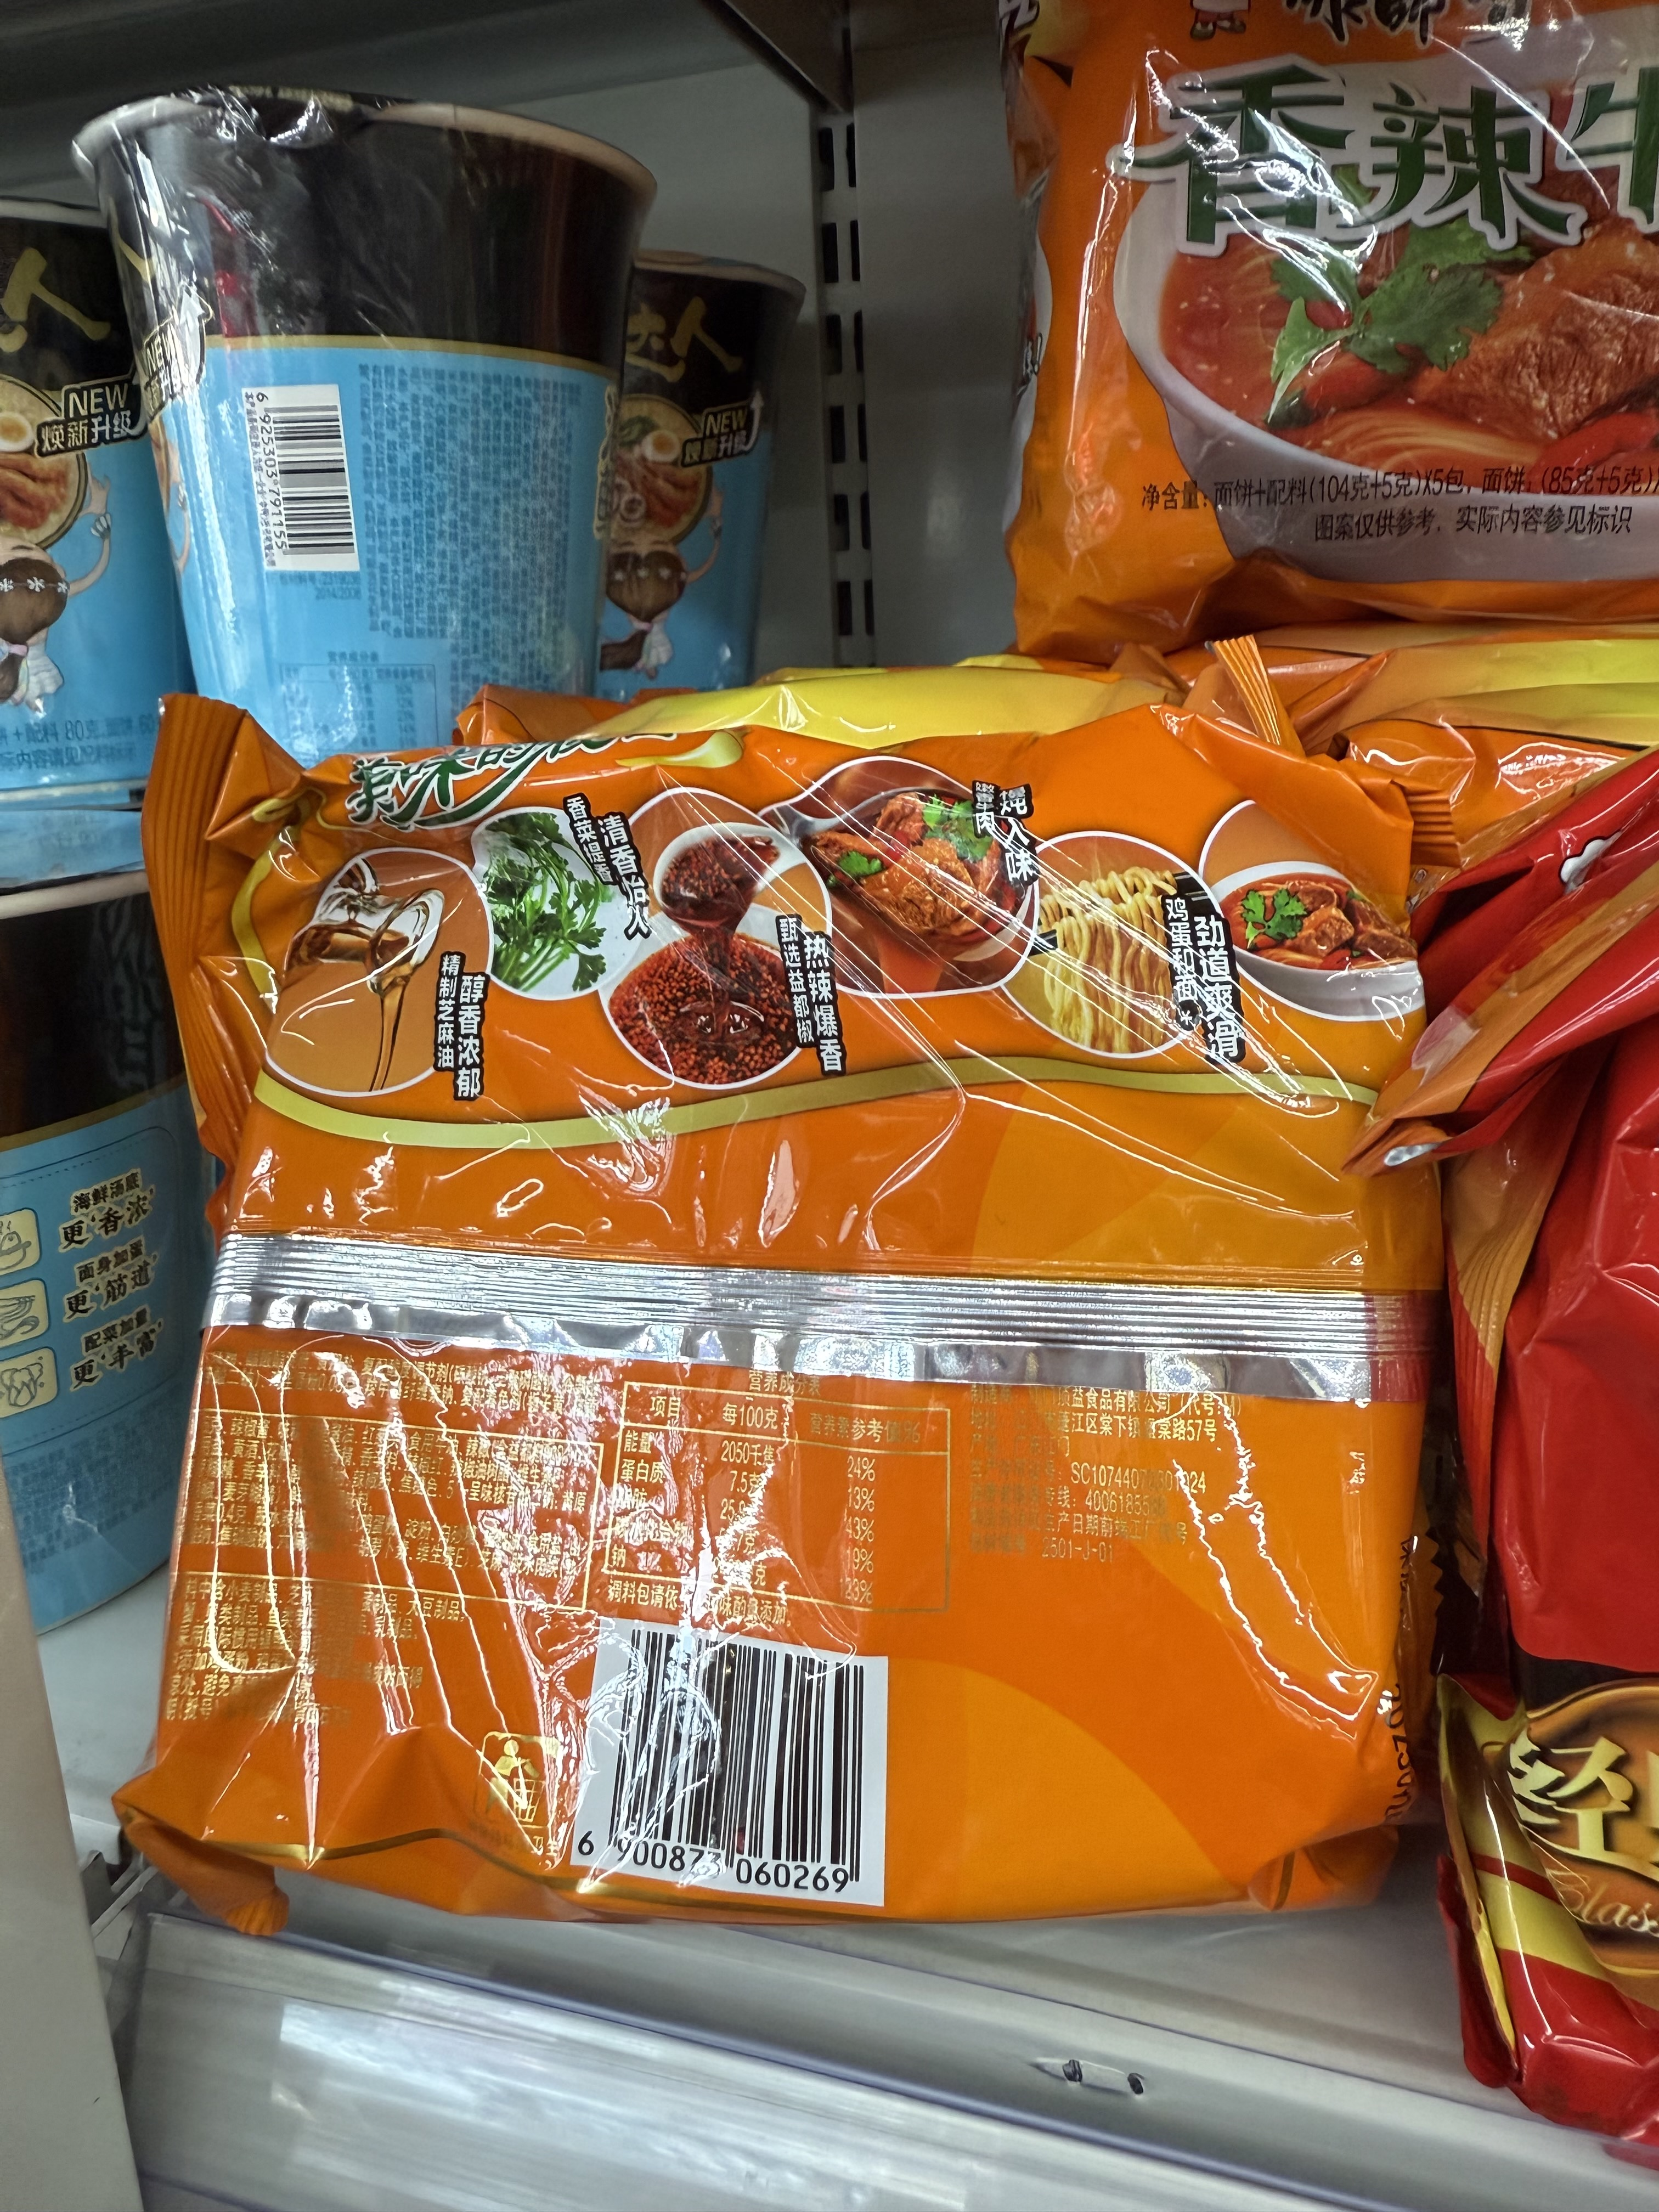bar: (605, 1625, 873, 1890)
